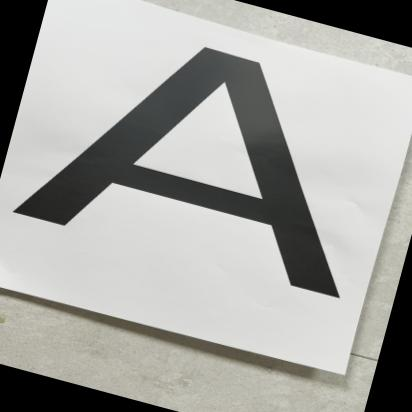seat: (0, 0, 412, 313)
